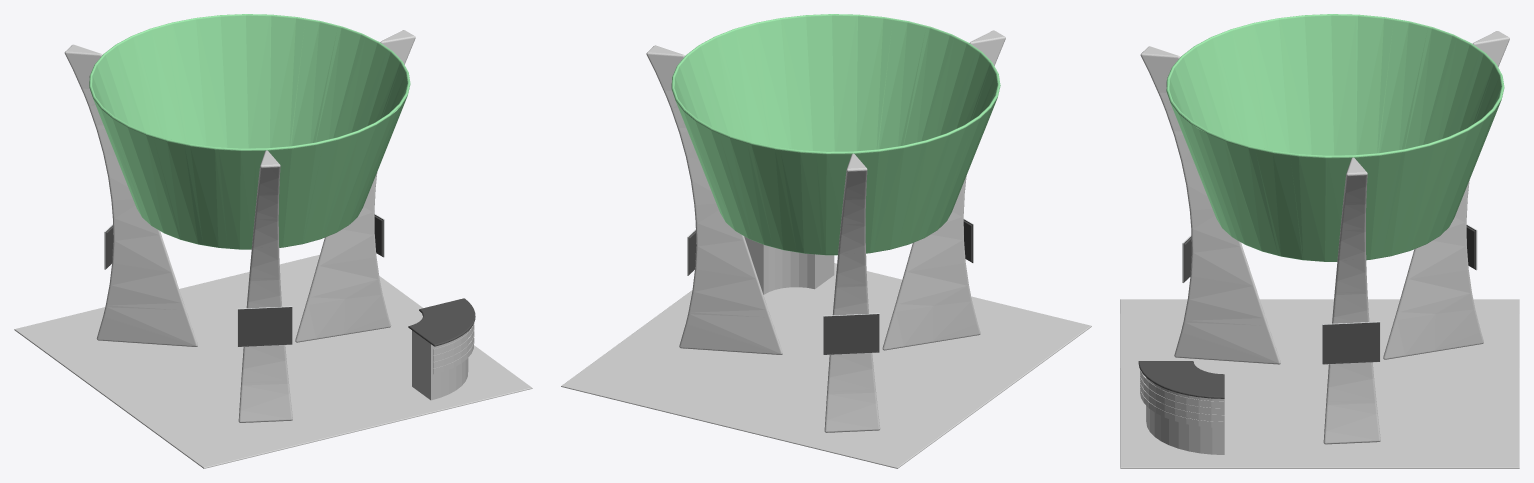
3 renders of one model, left to right at view 1: azimuth 30°, elevation 25°; view 2: azimuth 150°, elevation 25°; view 3: azimuth 270°, elevation 25°, orthographic. The views are drawn at different scales.
Parts seen in each view (by area): view 1: 3DSMeshMatrix (×8); view 2: 3DSMeshMatrix (×7); view 3: 3DSMeshMatrix (×12).
Boxes of the visible parts, x1=… form: 3DSMeshMatrix (×8): x1=14, y1=14, x2=532, y2=468; 3DSMeshMatrix (×7): x1=561, y1=14, x2=1091, y2=468; 3DSMeshMatrix (×12): x1=1120, y1=14, x2=1519, y2=468.
Size of the model in its own units: 6096 by 4906 by 6096.
